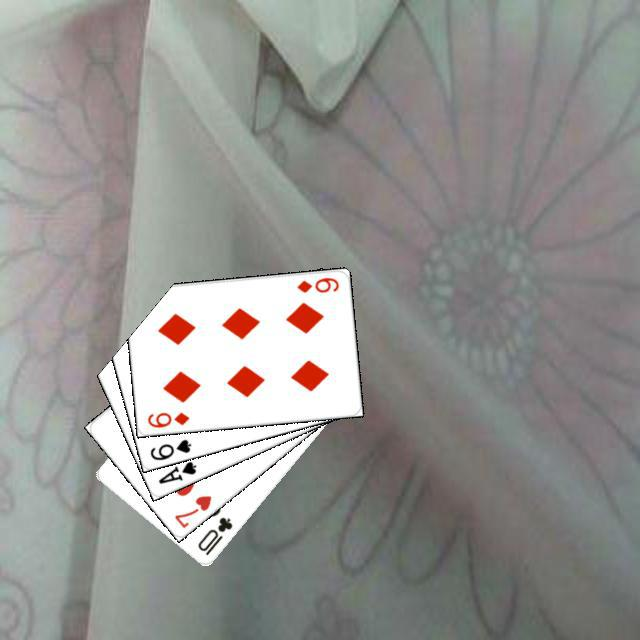10c: (193, 512, 234, 557)
6d: (143, 407, 191, 429), (292, 273, 341, 294)
6s: (145, 434, 193, 462)
7h: (169, 490, 213, 530)
As: (153, 456, 198, 486)
